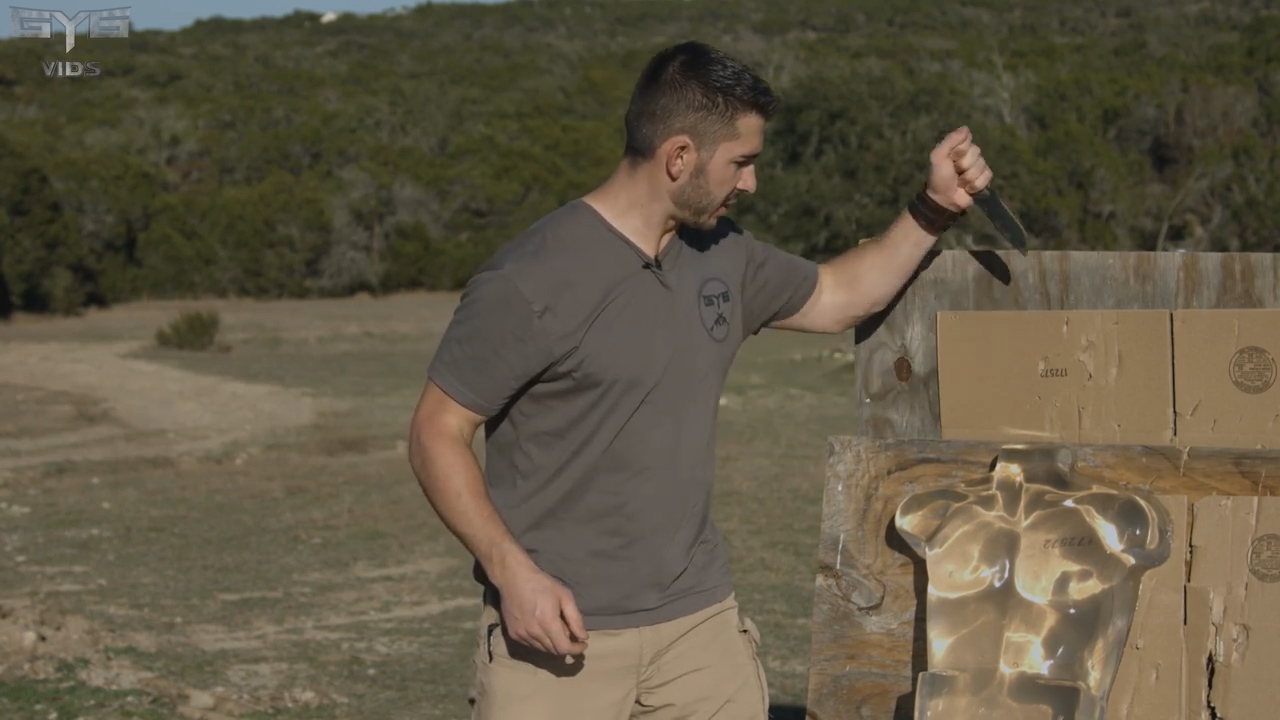knife: (930, 125, 1036, 265)
